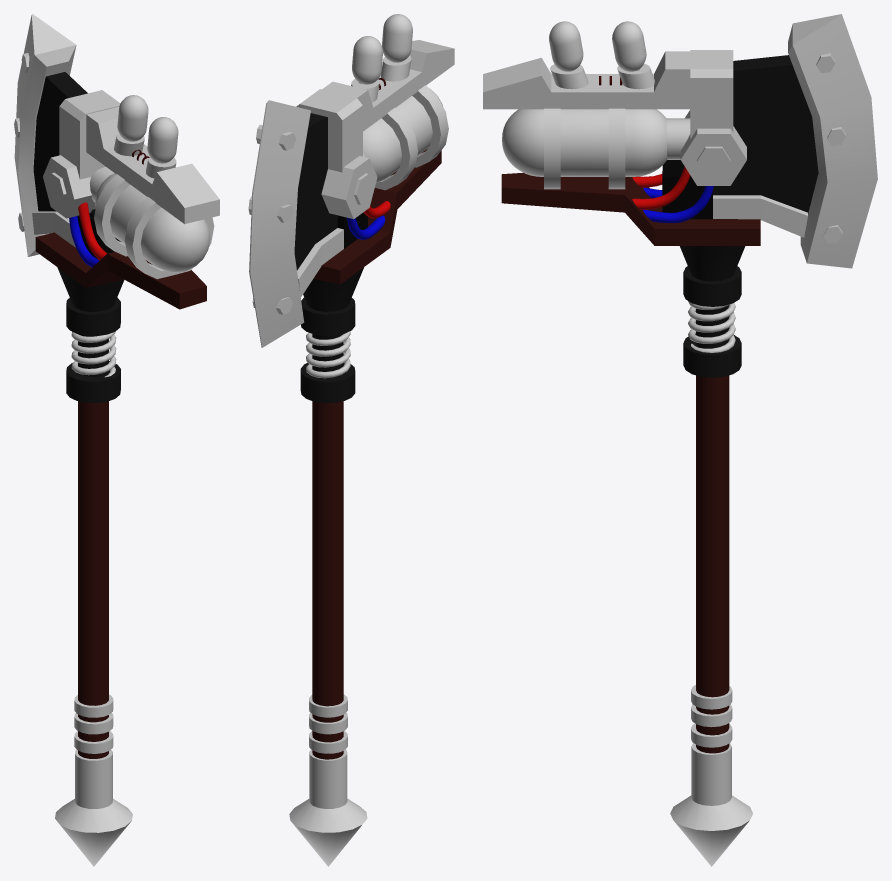
The model's file is axe.obj.
3 views of the same model, side by side, from view 1: azimuth 30°, elevation 25°; view 2: azimuth 150°, elevation 25°; view 3: azimuth 270°, elevation 25° (orthographic). The views are drawn at different scales.
Parts seen in each view (by area): view 1: Цилиндр, Куб.001_Куб.002, Куб_Куб.001, Цилиндр.001, Куб.005_Куб.006, Цилиндр.007, Цилиндр.013_Цилиндр.014, Куб.002_Куб.003, Куб.003_Куб.004, Цилиндр.027, Цилиндр.014_Цилиндр.015, Цилиндр.004 (+10 smaller); view 2: Цилиндр, Куб_Куб.001, Цилиндр.001, Куб.002_Куб.003, Куб.005_Куб.006, Куб.001_Куб.002, Куб.003_Куб.004, Цилиндр.013_Цилиндр.014, Цилиндр.007, Цилиндр.014_Цилиндр.015, Цилиндр.027, Цилиндр.004 (+10 smaller); view 3: Куб_Куб.001, Цилиндр, Куб.002_Куб.003, Цилиндр.007, Куб.001_Куб.002, Куб.005_Куб.006, Цилиндр.001, Куб.003_Куб.004, Цилиндр.013_Цилиндр.014, Цилиндр.014_Цилиндр.015, Цилиндр.027, Куб.007_Куб.008 (+10 smaller).
Boxes of the visible parts, x1,y1,x2,y2 form: Цилиндр: (78,401,108,758); Куб.001_Куб.002: (86,106,219,224); Куб_Куб.001: (14,14,76,256); Цилиндр.001: (55,750,132,866); Куб.005_Куб.006: (35,232,206,309); Цилиндр.007: (95,173,210,272); Цилиндр.013_Цилиндр.014: (94,174,214,279); Куб.002_Куб.003: (33,72,95,213); Куб.003_Куб.004: (59,90,120,179); Цилиндр.027: (57,267,124,376); Цилиндр.014_Цилиндр.015: (43,155,95,218); Цилиндр.004: (74,694,113,753); Цилиндр: (312,401,343,759); Куб_Куб.001: (249,100,310,347); Цилиндр.001: (289,749,367,866); Куб.002_Куб.003: (294,113,337,270); Куб.005_Куб.006: (313,148,441,284); Куб.001_Куб.002: (322,40,454,131); Куб.003_Куб.004: (296,89,362,172); Цилиндр.013_Цилиндр.014: (375,85,448,190); Цилиндр.007: (363,88,443,183); Цилиндр.014_Цилиндр.015: (321,156,377,219); Цилиндр.027: (303,267,363,371); Цилиндр.004: (309,694,347,753); Куб_Куб.001: (788,14,877,268); Цилиндр: (696,375,729,753); Куб.002_Куб.003: (713,55,818,213); Цилиндр.007: (502,109,667,176); Куб.001_Куб.002: (483,51,690,109); Куб.005_Куб.006: (501,172,760,245); Цилиндр.001: (670,743,752,866); Куб.003_Куб.004: (690,50,733,138); Цилиндр.013_Цилиндр.014: (544,108,625,189); Цилиндр.014_Цилиндр.015: (680,110,746,185); Цилиндр.027: (680,246,745,348); Куб.007_Куб.008: (713,195,807,237).
Bounding box in the file's own units: 0.3975 × 3.75 × 1.57.
